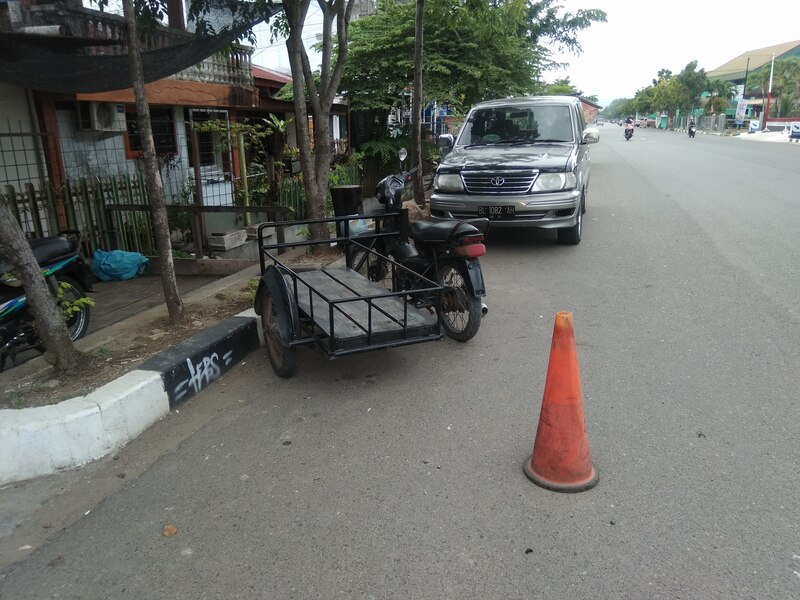becak barang: (252, 146, 493, 384)
